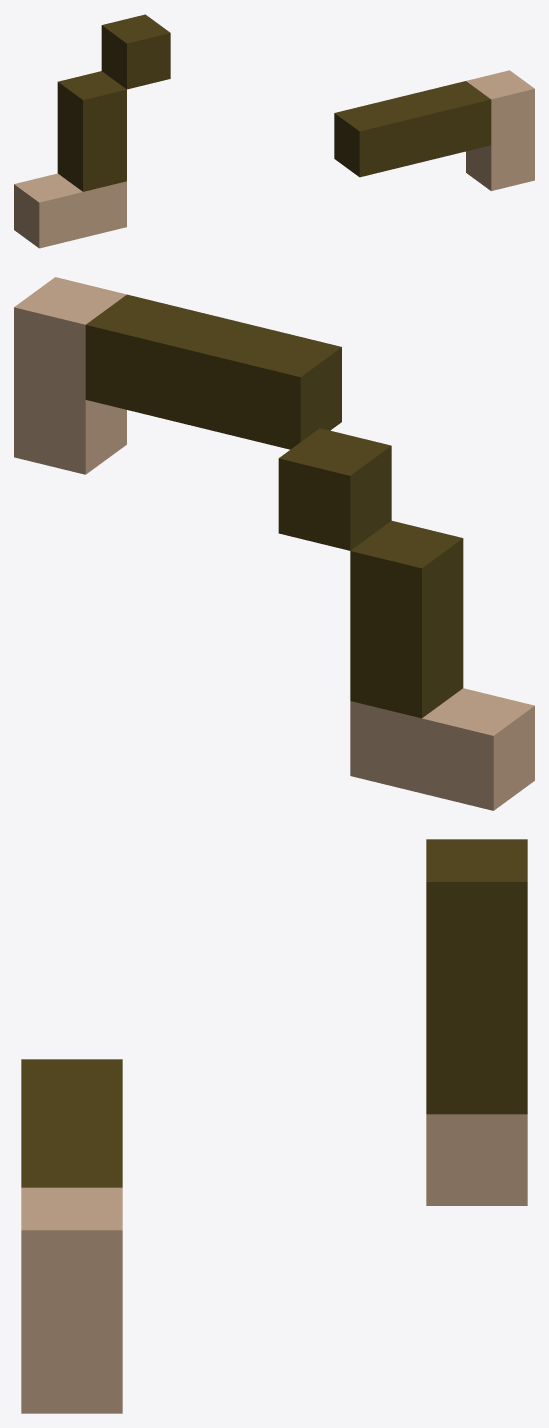
The model's file is orc_5_torso_walk.fbx.
The picture shows the model from 3 angles, top to bottom: view 1: azimuth 30°, elevation 25°; view 2: azimuth 150°, elevation 25°; view 3: azimuth 270°, elevation 25°; orthographic projection. The views are drawn at different scales.
Parts seen in each view (by area): view 1: torso_walk.011; view 2: torso_walk.011; view 3: torso_walk.011.
Boxes of the visible parts, left/top/right/bottom form: torso_walk.011: left=14, top=14, right=534, bottom=248; torso_walk.011: left=14, top=277, right=534, bottom=810; torso_walk.011: left=21, top=839, right=527, bottom=1413.
Size of the model in its own units: 900 by 400 by 500.
